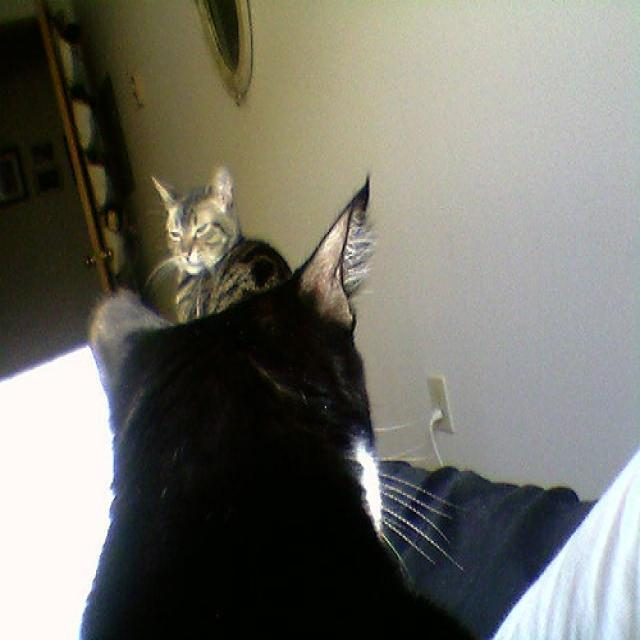cat: (78, 182, 481, 639), (142, 165, 303, 327)
